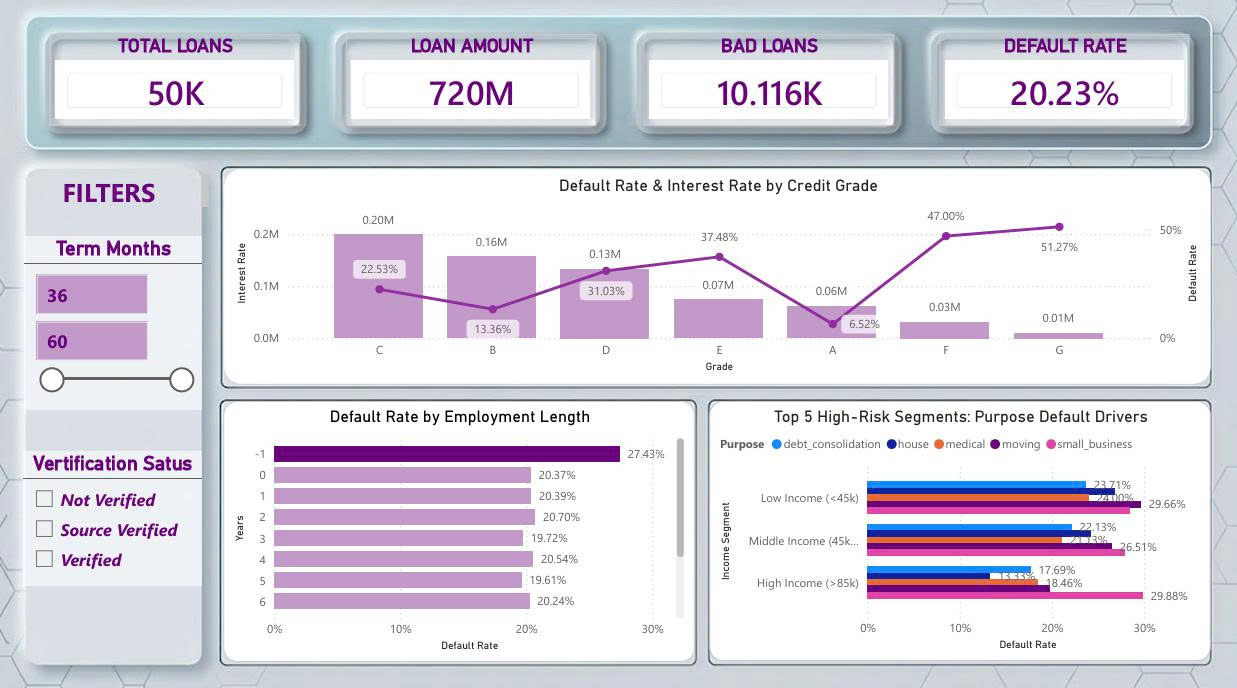

This screenshot's page, from the dashboard's own definition file:
{"tool":"powerbi","page":{"name":"Page 1","canvas":[1280,720],"ordinal":0},"visuals":[{"type":"cardVisual","title":"TOTAL LOANS","fields":{"Data":["vw_CleanedLoanData.Total_Loans"]},"box":[50.8,37,259.3,94.7],"z":0},{"type":"cardVisual","title":"LOAN AMOUNT","fields":{"Data":["Sum(vw_CleanedLoanData.loan_amnt)"]},"box":[358.1,37,259.3,94.7],"z":1000},{"type":"cardVisual","title":"BAD LOANS","fields":{"Data":["vw_CleanedLoanData.Bad_Loans"]},"box":[665.5,37,259.3,94.7],"z":2000},{"type":"cardVisual","title":"DEFAULT RATE","fields":{"Data":["vw_CleanedLoanData.Default_Rate"]},"box":[971.5,37,259.3,94.7],"z":3000},{"type":"slicer","title":"Term Months","fields":{"Values":["vw_CleanedLoanData.term_months"]},"box":[24.7,247,183.9,179.8],"z":4000},{"type":"slicer","title":"Vertification Satus","fields":{"Values":["vw_CleanedLoanData.verification_status"]},"box":[24.1,469.3,184.6,138.7],"z":5000},{"type":"textbox","box":[12.3,177,208.6,45.3],"z":6000},{"type":"lineStackedColumnComboChart","title":"Default Rate & Interest Rate by Credit Grade","fields":{"Category":["vw_CleanedLoanData.grade"],"Y2":["vw_CleanedLoanData.Default_Rate"],"Y":["Sum(vw_CleanedLoanData.int_rate)"]},"box":[259.3,177,1020.9,222.3],"z":7000},{"type":"clusteredBarChart","title":"Default Rate by Employment Length","fields":{"Category":["vw_CleanedLoanData.emp_length_years"],"Y":["vw_CleanedLoanData.Default_Rate"]},"box":[230.5,417.2,488.5,270.3],"z":8000},{"type":"clusteredBarChart","title":"Top 5 High-Risk Segments: Purpose Default Drivers","fields":{"Category":["vw_CleanedLoanData.Income_Segment"],"Y":["vw_CleanedLoanData.Default_Rate"],"Series":["vw_CleanedLoanData.purpose"]},"box":[734.1,416.8,518.9,269.7],"z":9000}]}

Visuals, with their boxes in screenshot pixels (x1, y1, x2, y2), scaled from the page's 1280x720 canvas onto the 1237x688 screenshot:
"TOTAL LOANS" cardVisual: [49, 35, 300, 126]
"LOAN AMOUNT" cardVisual: [346, 35, 597, 126]
"BAD LOANS" cardVisual: [643, 35, 894, 126]
"DEFAULT RATE" cardVisual: [939, 35, 1189, 126]
"Term Months" slicer: [24, 236, 202, 408]
"Vertification Satus" slicer: [23, 448, 202, 581]
textbox: [12, 169, 213, 212]
"Default Rate & Interest Rate by Credit Grade" lineStackedColumnComboChart: [251, 169, 1236, 382]
"Default Rate by Employment Length" clusteredBarChart: [223, 399, 695, 657]
"Top 5 High-Risk Segments: Purpose Default Drivers" clusteredBarChart: [709, 398, 1211, 656]
